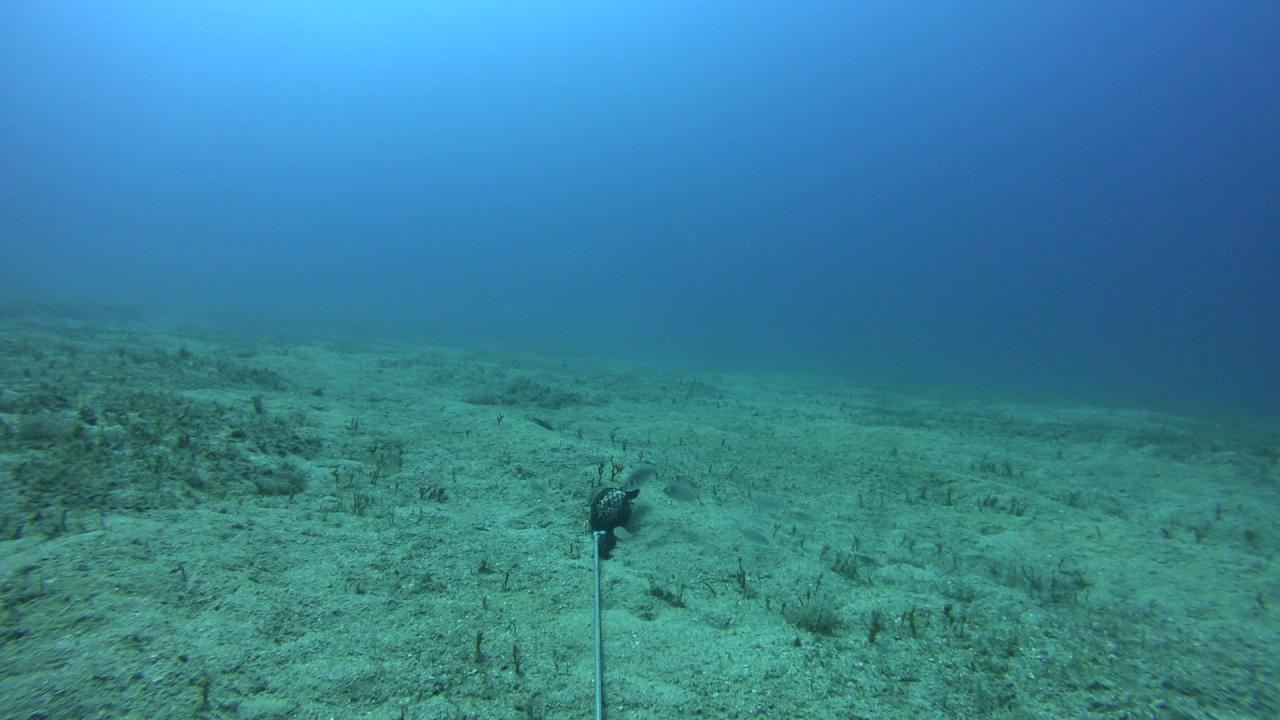pagellus: (661, 479, 704, 505), (625, 462, 656, 494), (731, 523, 769, 547), (611, 528, 635, 540)
